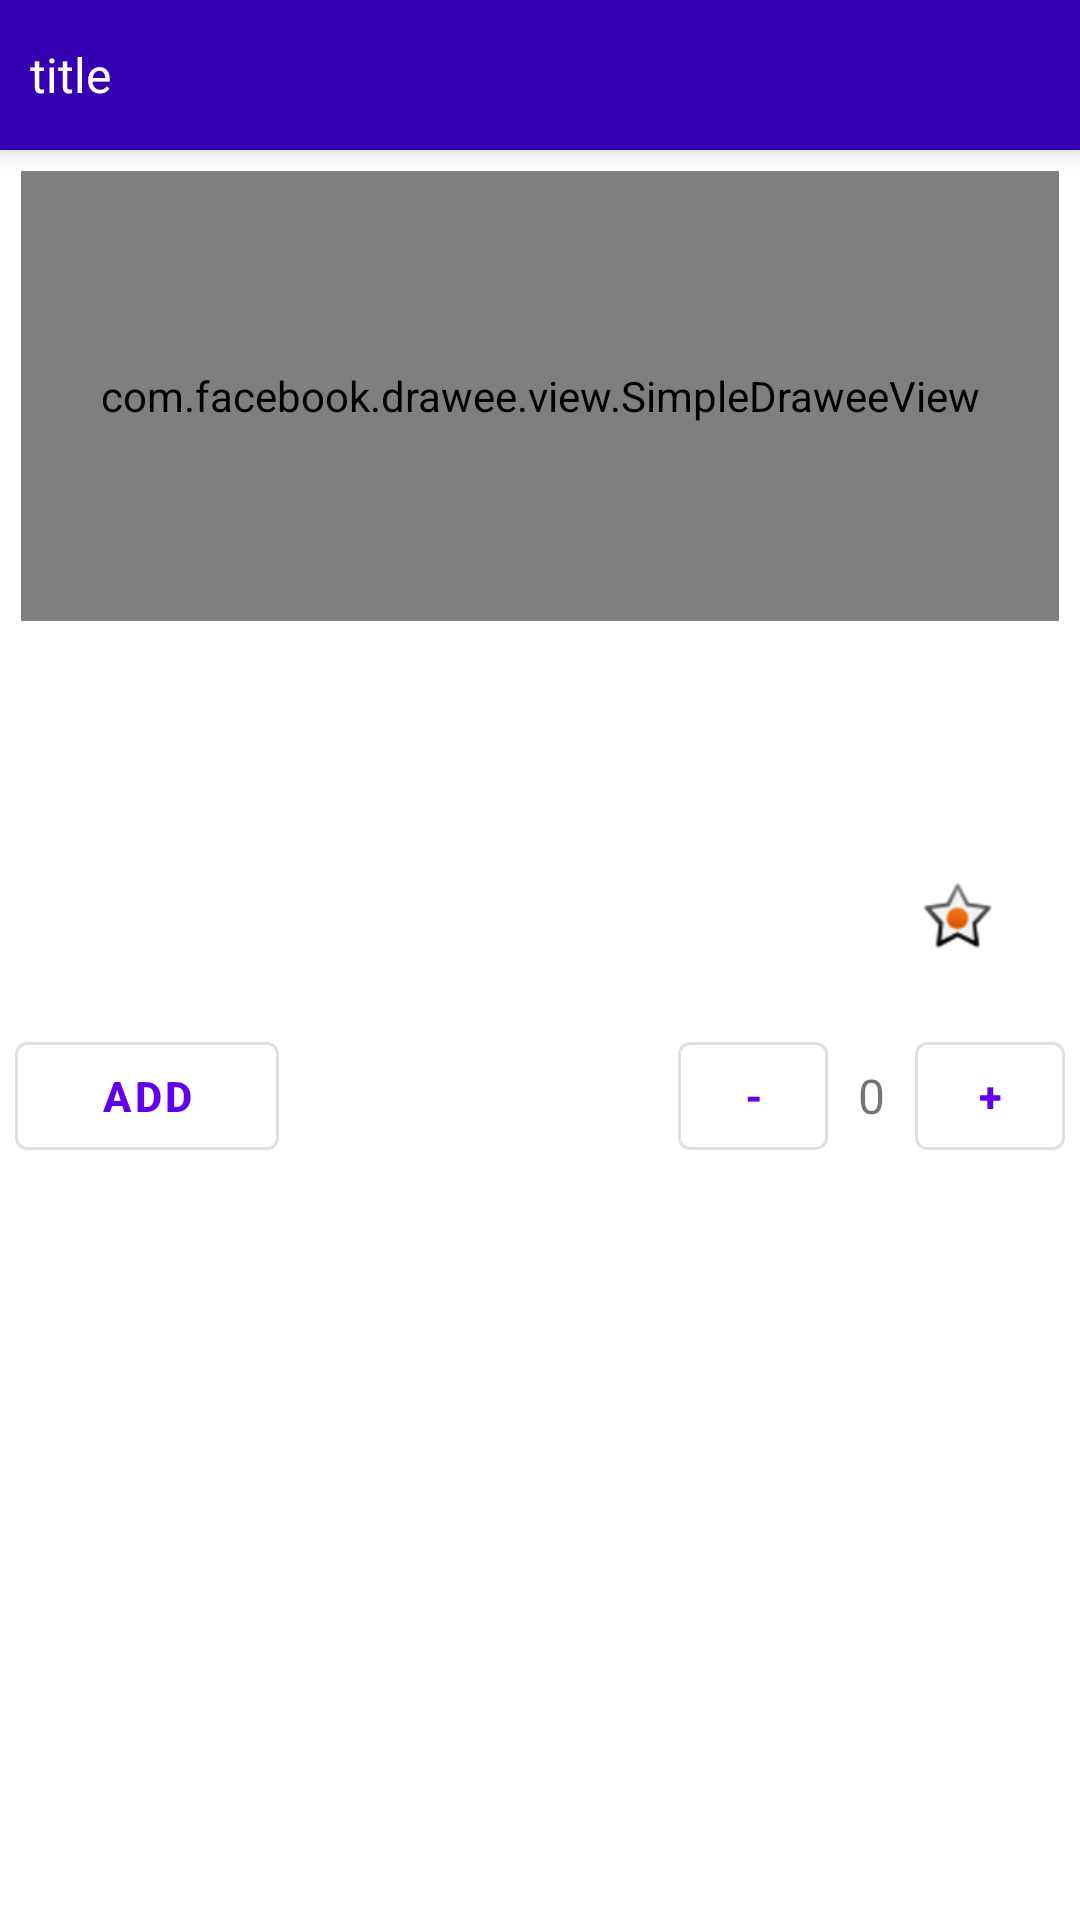

Icon bounding boxes for this 1080 × 1920 phone screenshot, format (x1, y1, x2, y2):
star on: (923, 883, 992, 948)
